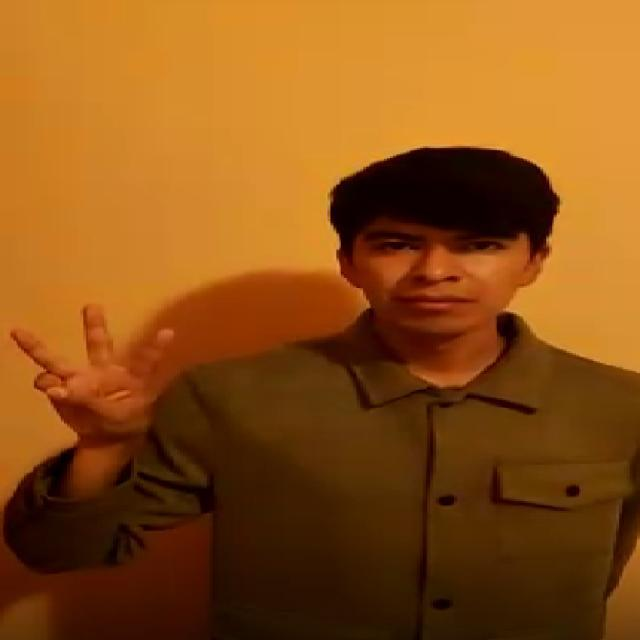W: (2, 301, 196, 455)
